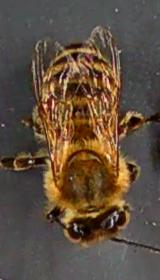varroa_mite: (31, 78, 62, 124)
